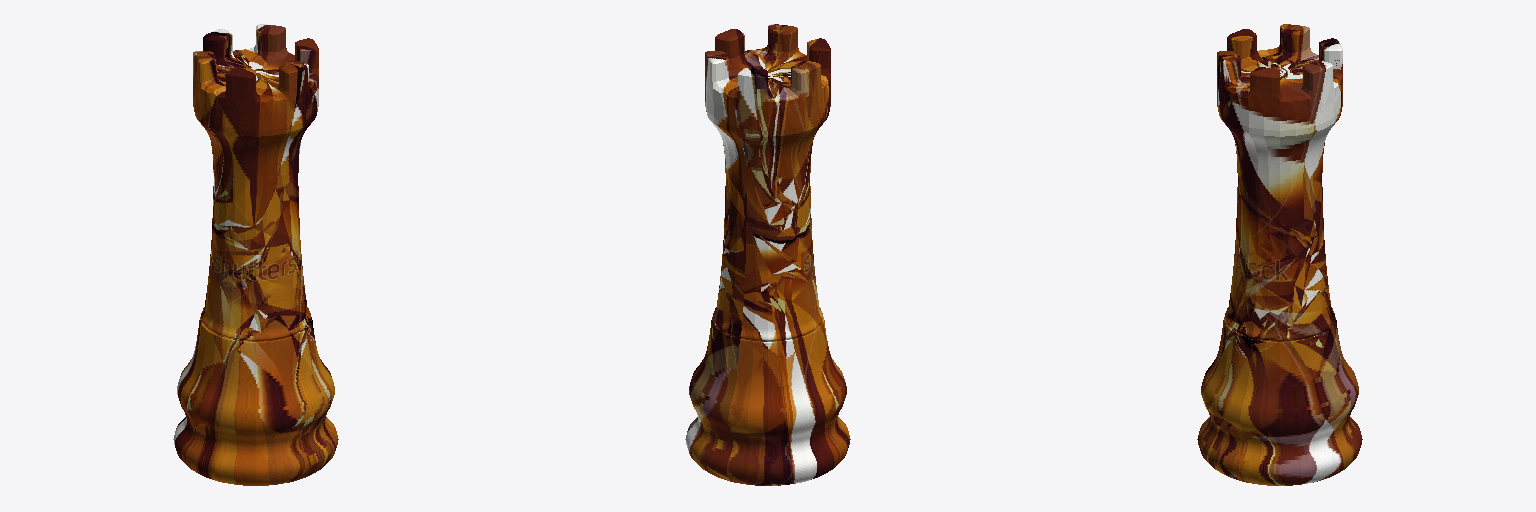
3 renders of one model, left to right at view 1: azimuth 30°, elevation 25°; view 2: azimuth 150°, elevation 25°; view 3: azimuth 270°, elevation 25°, orthographic.
Parts seen in each view (by area): view 1: mesh01; view 2: mesh01; view 3: mesh01.
Boxes of the visible parts, x1,y1,x2,y2 form: mesh01: [173, 24, 338, 485]; mesh01: [685, 24, 850, 485]; mesh01: [1197, 24, 1362, 485].
Size of the model in its own units: 3.83 by 10.57 by 3.83.
Materials: 1 (1 with a texture image).